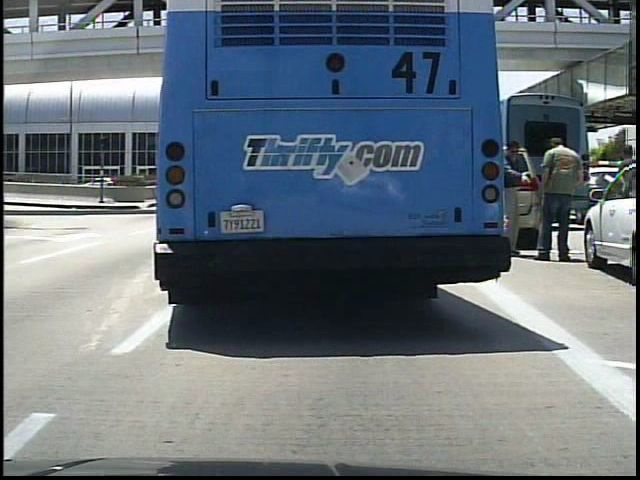person: (535, 132, 583, 270), (503, 137, 537, 264), (614, 144, 637, 247)
